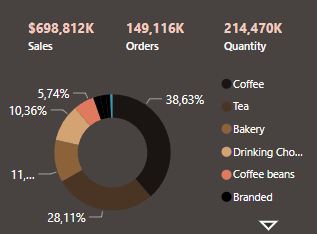

This screenshot's page, from the dashboard's own definition file:
{"tool":"powerbi","page":{"name":"Tooltips","canvas":[320,240],"ordinal":1},"visuals":[{"type":"cardVisual","fields":{"Data":["Transactions.Total Sales","Transactions.Total Orders","Transactions.Total Quantity"]},"box":[0,0,320,75.5],"z":0},{"type":"donutChart","fields":{"Y":["Transactions.Total Sales"],"Category":["Transactions.product_category"]},"box":[0,68.5,320,171.5],"z":1000}]}

Visuals, with their boxes in screenshot pixels (x1, y1, x2, y2), scaled from the page's 320x240 canvas onto the 317x234 screenshot:
cardVisual - Transactions.Total Sales x Transactions.Total Orders: x1=0, y1=0, x2=316, y2=74
donutChart - Transactions.Total Sales x Transactions.product_category: x1=0, y1=67, x2=316, y2=233
